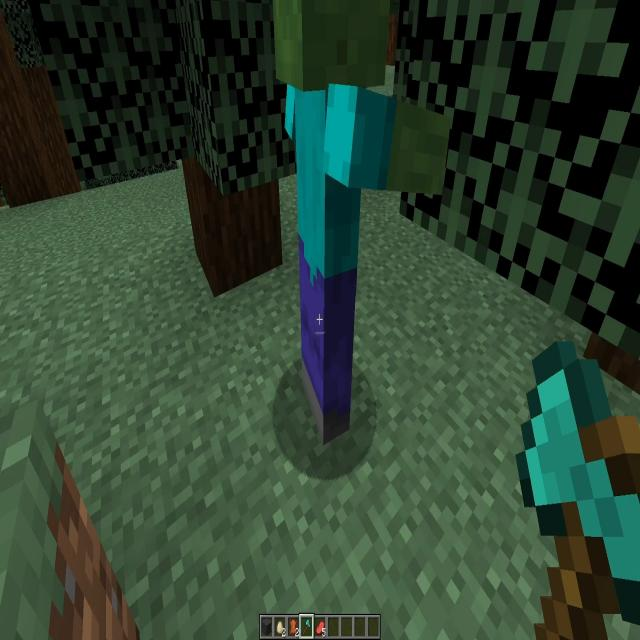Zombie: (278, 0, 416, 431)
